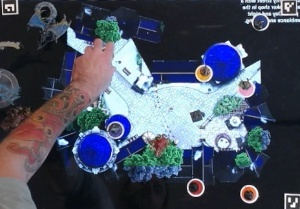blue: (250, 12, 271, 32)
orange: (237, 182, 261, 204)
pink: (236, 77, 257, 96)
red: (184, 177, 206, 199)
violet: (106, 120, 124, 138)
yellow: (193, 61, 216, 83)
